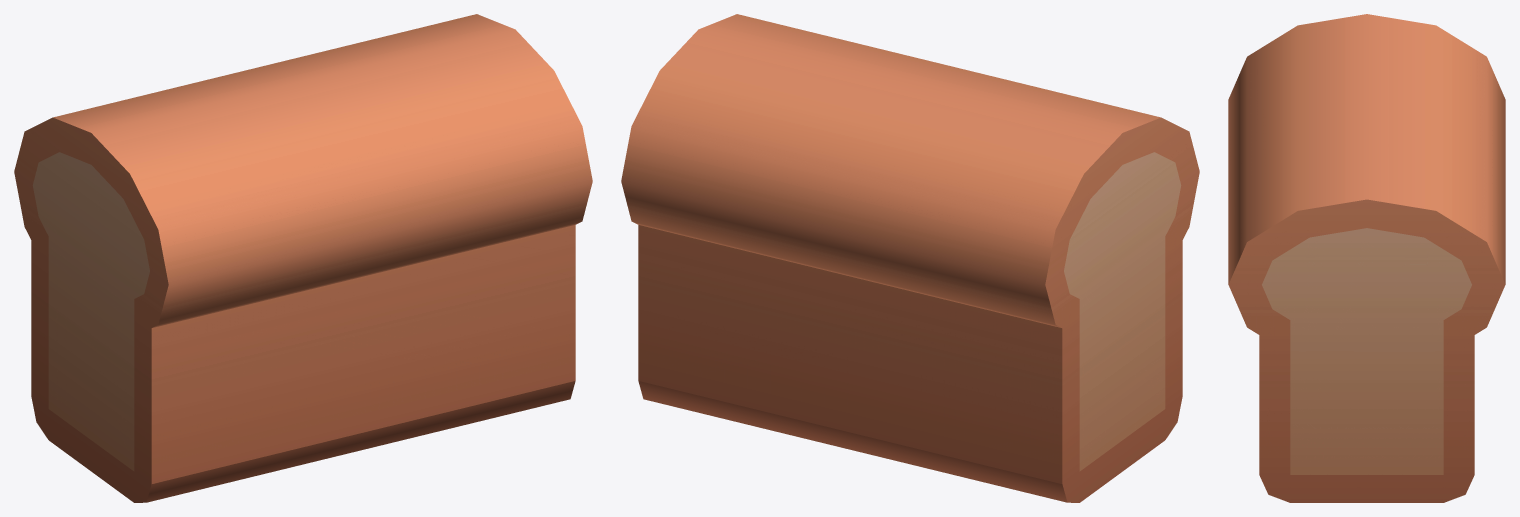
Rendered from bread.glb.
3 renders of one model, left to right at view 1: azimuth 30°, elevation 25°; view 2: azimuth 150°, elevation 25°; view 3: azimuth 270°, elevation 25°, orthographic. The views are drawn at different scales.
Parts seen in each view (by area): view 1: loaf; view 2: loaf; view 3: loaf.
Part boxes in pixels (box(x1,y1,x2,y2)): loaf: box(14, 14, 592, 502); loaf: box(621, 14, 1199, 502); loaf: box(1228, 14, 1505, 502).
Bounding box in the file's own units: 0.24 × 0.1831 × 0.1515.
Materials: 1 (1 with a texture image).
